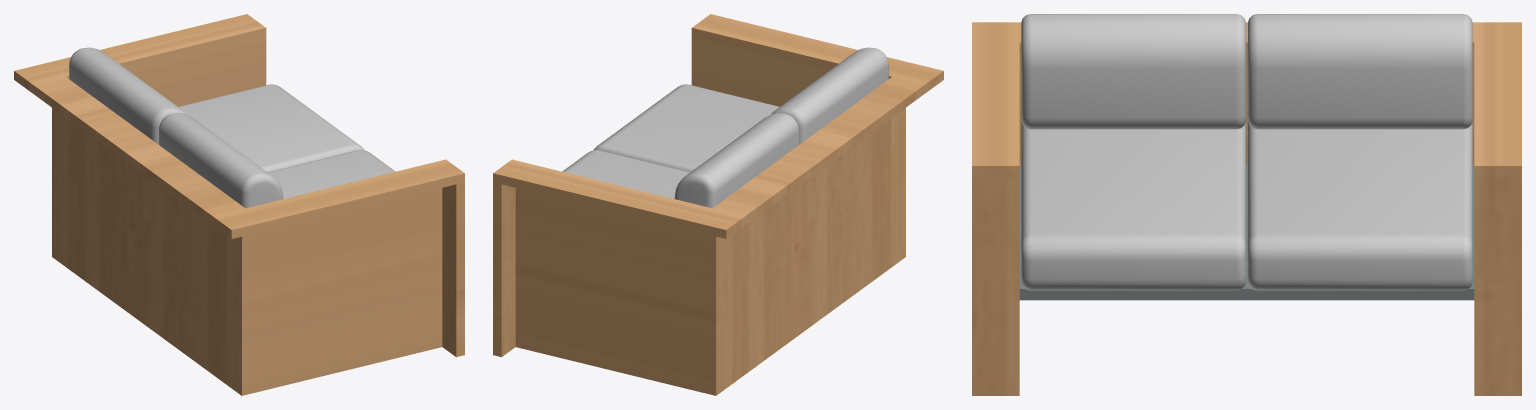
File: sofa.glb
The picture shows the model from 3 angles, left to right: view 1: azimuth 30°, elevation 25°; view 2: azimuth 150°, elevation 25°; view 3: azimuth 270°, elevation 25°; orthographic projection. The views are drawn at different scales.
Visible parts, largest first — view 1: ソファ 4, ソファ, ソファ 5, ソファ 6, ソファ 2; view 2: ソファ 4, ソファ 2, ソファ 6, ソファ 5, ソファ; view 3: ソファ 4, ソファ, ソファ 2, ソファ 5, ソファ 6, ソファ 3.
Boxes of the visible parts, x1,y1,x2,y2 form: ソファ 4: (14, 14, 464, 395); ソファ: (178, 84, 364, 172); ソファ 5: (158, 113, 283, 208); ソファ 6: (69, 47, 186, 144); ソファ 2: (268, 150, 395, 198); ソファ 4: (493, 14, 943, 395); ソファ 2: (593, 84, 779, 172); ソファ 6: (674, 113, 799, 208); ソファ 5: (771, 47, 888, 144); ソファ: (562, 150, 689, 198); ソファ 4: (972, 22, 1521, 395); ソファ: (1248, 121, 1472, 290); ソファ 2: (1021, 121, 1245, 290); ソファ 5: (1021, 14, 1245, 129); ソファ 6: (1248, 14, 1472, 129); ソファ 3: (1019, 165, 1474, 300).
Bounding box in the file's own units: 18.22 × 14.8 × 27.81.
Materials: 3 (1 with a texture image).
